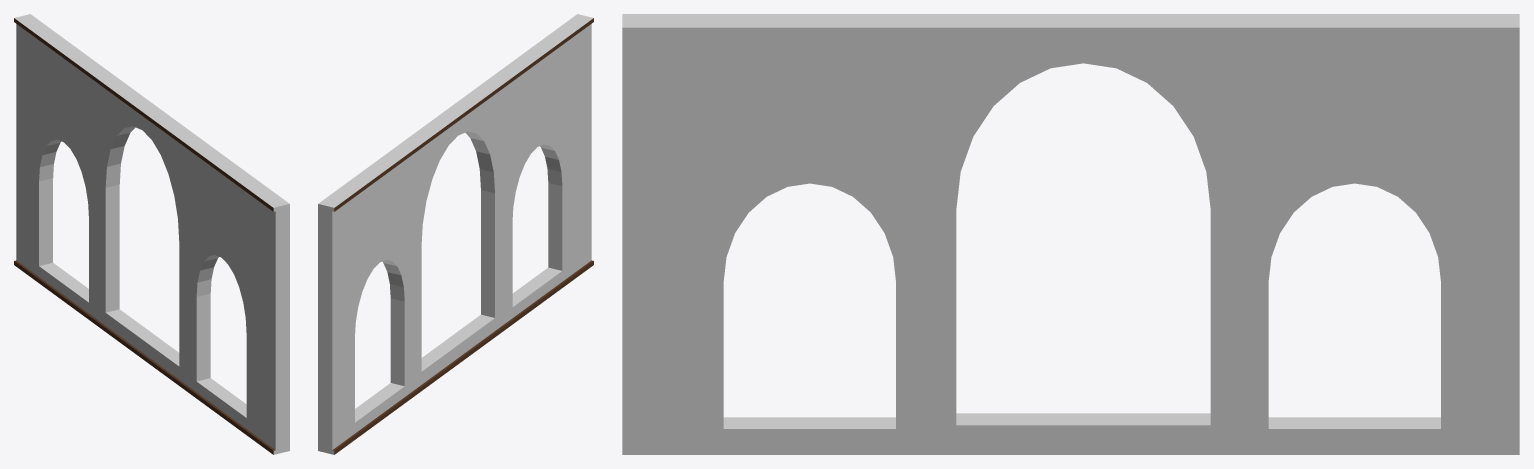
The model's file is Arch_WallE_BigWall.fbx.
3 renders of one model, left to right at view 1: azimuth 30°, elevation 25°; view 2: azimuth 150°, elevation 25°; view 3: azimuth 270°, elevation 25°, orthographic. The views are drawn at different scales.
Parts seen in each view (by area): view 1: BigWall; view 2: BigWall; view 3: BigWall.
Boxes of the visible parts, x1,y1,x2,y2 form: BigWall: (14, 14, 289, 454); BigWall: (318, 14, 593, 454); BigWall: (622, 14, 1519, 454).
Size of the model in its own units: 48.21 by 695 by 1323.
